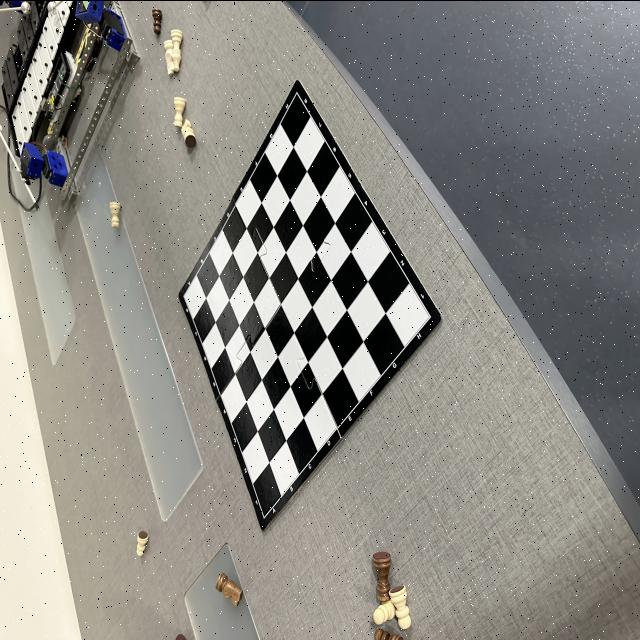Black-Knight: (215, 572, 242, 606)
Black-Pawn: (374, 627, 401, 640), (152, 6, 162, 34)
Black-Rook: (373, 553, 392, 601)
White-Bishop: (171, 26, 183, 71)
White-Knight: (163, 38, 173, 74), (182, 118, 194, 136)
White-Pawn: (388, 584, 412, 628), (374, 600, 394, 622), (136, 529, 148, 555)
White-Rook: (174, 95, 186, 126), (109, 201, 121, 227)
